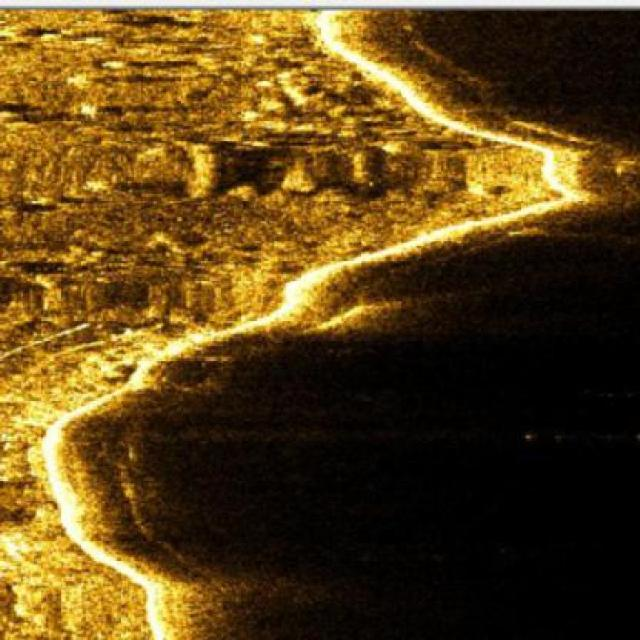bedrock group: (0, 7, 585, 639)
